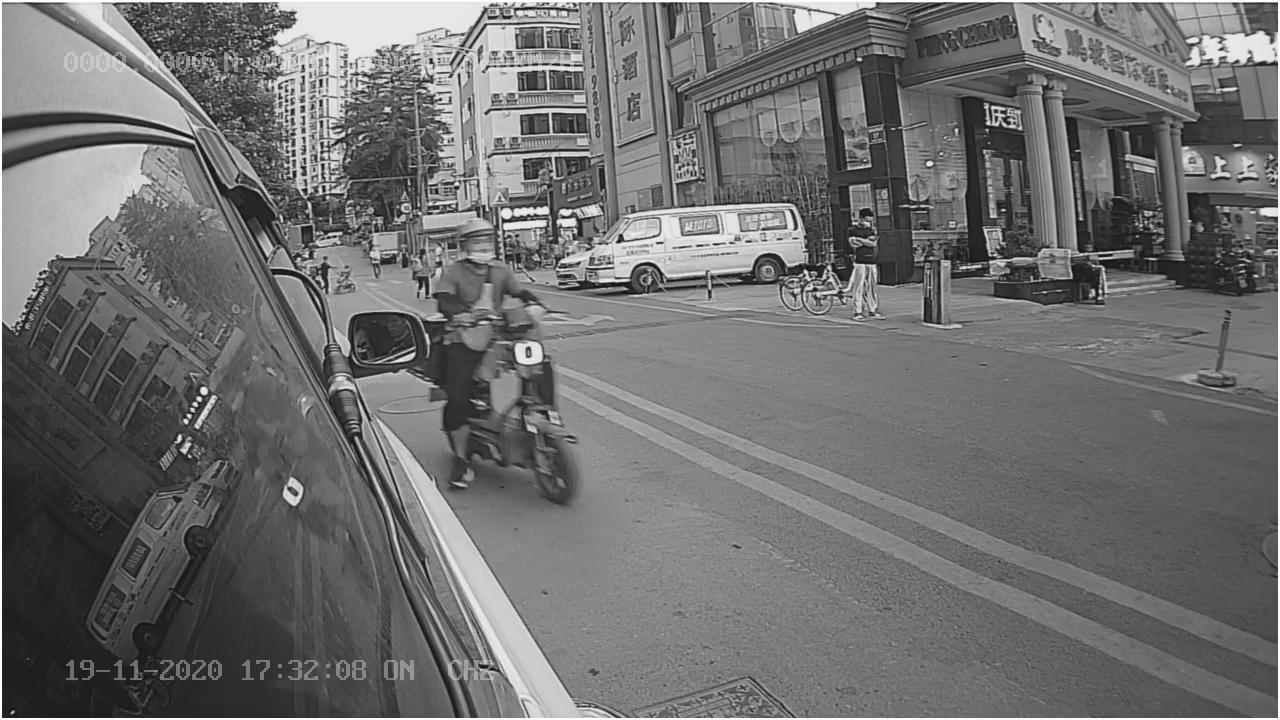person: (423, 215, 548, 309)
